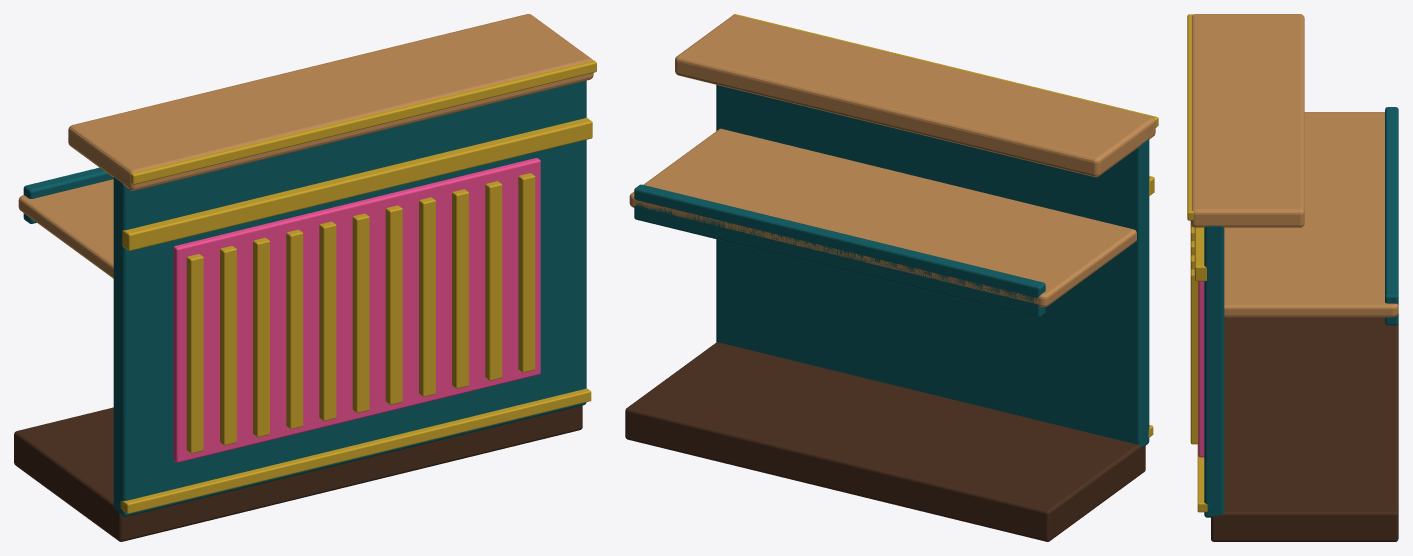
The model's file is reception-desk-middle.glb.
3 renders of one model, left to right at view 1: azimuth 30°, elevation 25°; view 2: azimuth 150°, elevation 25°; view 3: azimuth 270°, elevation 25°, orthographic. The views are drawn at different scales.
Parts seen in each view (by area): view 1: front.panel, panel.colour, top.txn, plinth, band.speed, band.base, top.txn.nose, top.work, flute.10, flute.6, flute.9, flute.0 (+8 smaller); view 2: front.panel, plinth, top.work, top.txn, apron.back, top.txn.nose; view 3: plinth, top.work, top.txn, front.panel, apron.back, flute.10, panel.colour, top.txn.nose, band.speed, band.base.
Boxes of the visible parts, box(x1,y1,x2,y2) form: front.panel: box(113, 80, 586, 516); panel.colour: box(173, 158, 540, 462); top.txn: box(68, 14, 593, 190); plinth: box(14, 405, 582, 541); band.speed: box(122, 117, 592, 250); band.base: box(120, 388, 591, 513); top.txn.nose: box(130, 60, 596, 184); top.work: box(18, 179, 113, 278); flute.10: box(518, 173, 535, 372); flute.6: box(385, 205, 402, 404); flute.9: box(485, 181, 502, 380); flute.0: box(186, 254, 203, 453); front.panel: box(716, 85, 1149, 446); plinth: box(625, 342, 1145, 541); top.work: box(629, 128, 1136, 307); top.txn: box(675, 15, 1155, 177); apron.back: box(634, 184, 1045, 317); top.txn.nose: box(732, 14, 1158, 127); plinth: box(1211, 317, 1398, 541); top.work: box(1224, 112, 1398, 317); top.txn: box(1190, 14, 1304, 227); front.panel: box(1204, 226, 1224, 517); apron.back: box(1385, 107, 1398, 325); flute.10: box(1190, 269, 1198, 444); panel.colour: box(1198, 281, 1204, 457); top.txn.nose: box(1187, 14, 1193, 220); band.speed: box(1194, 227, 1206, 281); band.base: box(1197, 444, 1209, 512).
Size of the model in its own units: 1.4 by 1.09 by 0.63.
